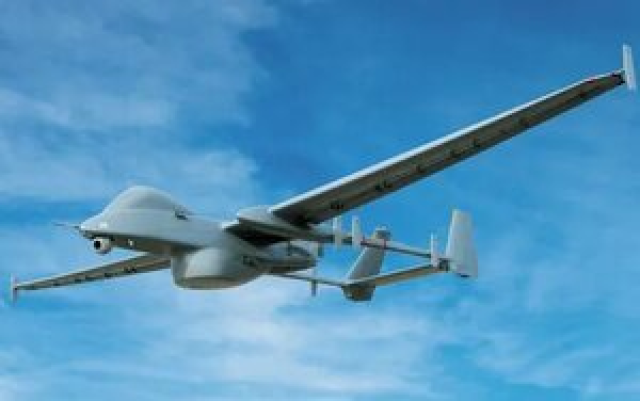military drone: (10, 43, 637, 302)
